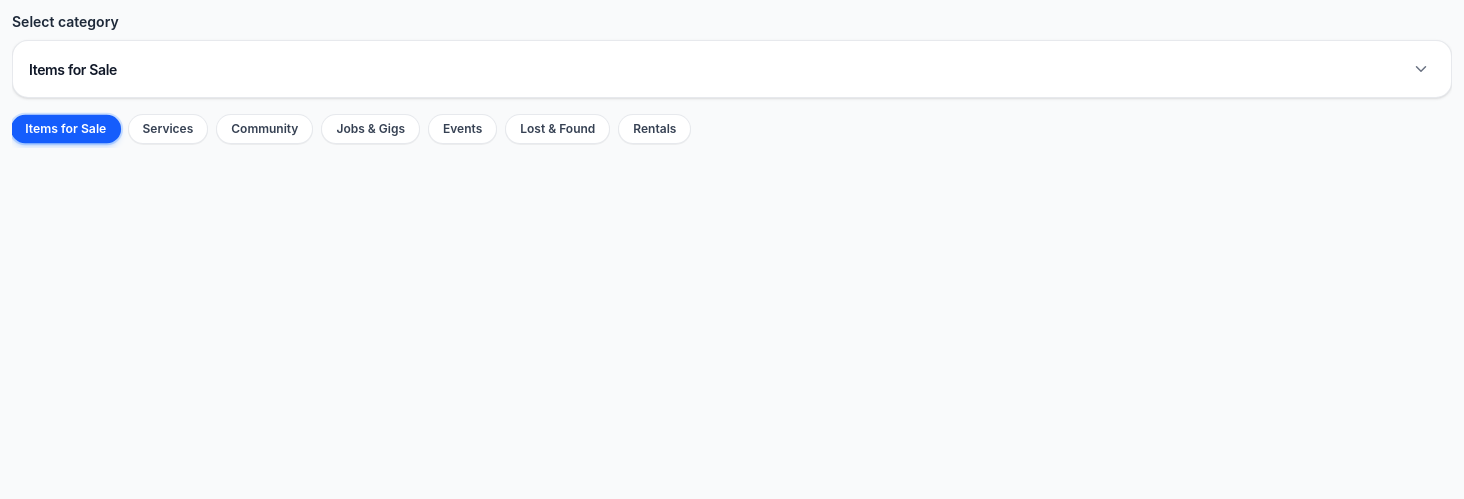
Test: CategorySelect › opens animated dropdown when clicked and lists all categories with simple names
The width and height of the screenshot is (1464, 499).
Click the 1st button "Items for Sale".
click(73, 70)  # box [12,40,1452,98]
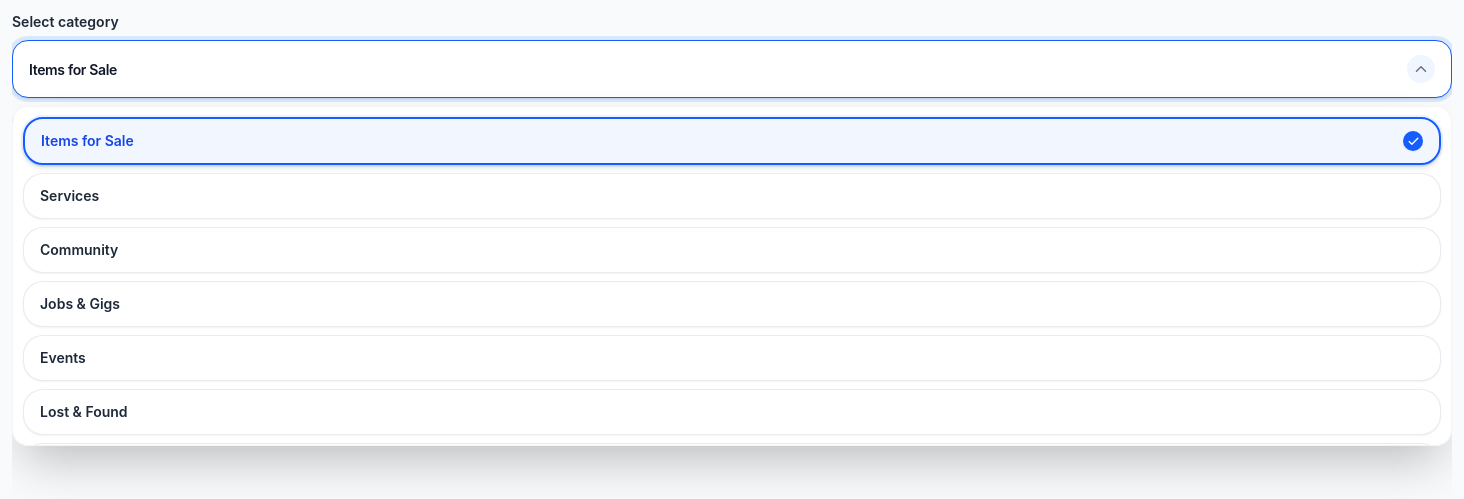
Expected: the list is shown
Expected: the text "Services" is shown, [40,186,99,206]
Expected: the text "Community" is shown, [40,240,118,260]
